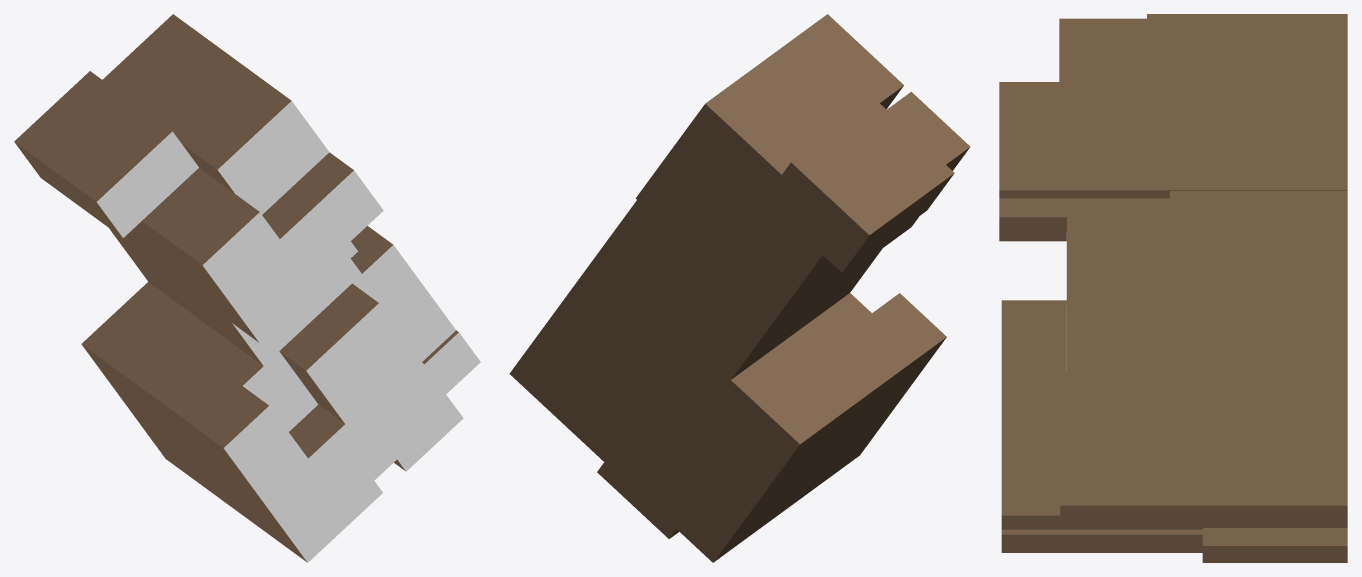
The picture shows the model from 3 angles, left to right: view 1: azimuth 30°, elevation 25°; view 2: azimuth 150°, elevation 25°; view 3: azimuth 270°, elevation 25°; orthographic projection. The views are drawn at different scales.
Parts seen in each view (by area): view 1: City_PC-30817; view 2: City_PC-30817; view 3: City_PC-30817.
Boxes of the visible parts, x1,y1,x2,y2 form: City_PC-30817: (14, 14, 480, 562); City_PC-30817: (509, 14, 970, 562); City_PC-30817: (999, 14, 1347, 562).
Size of the model in its own units: 2237 by 2716 by 1591.
